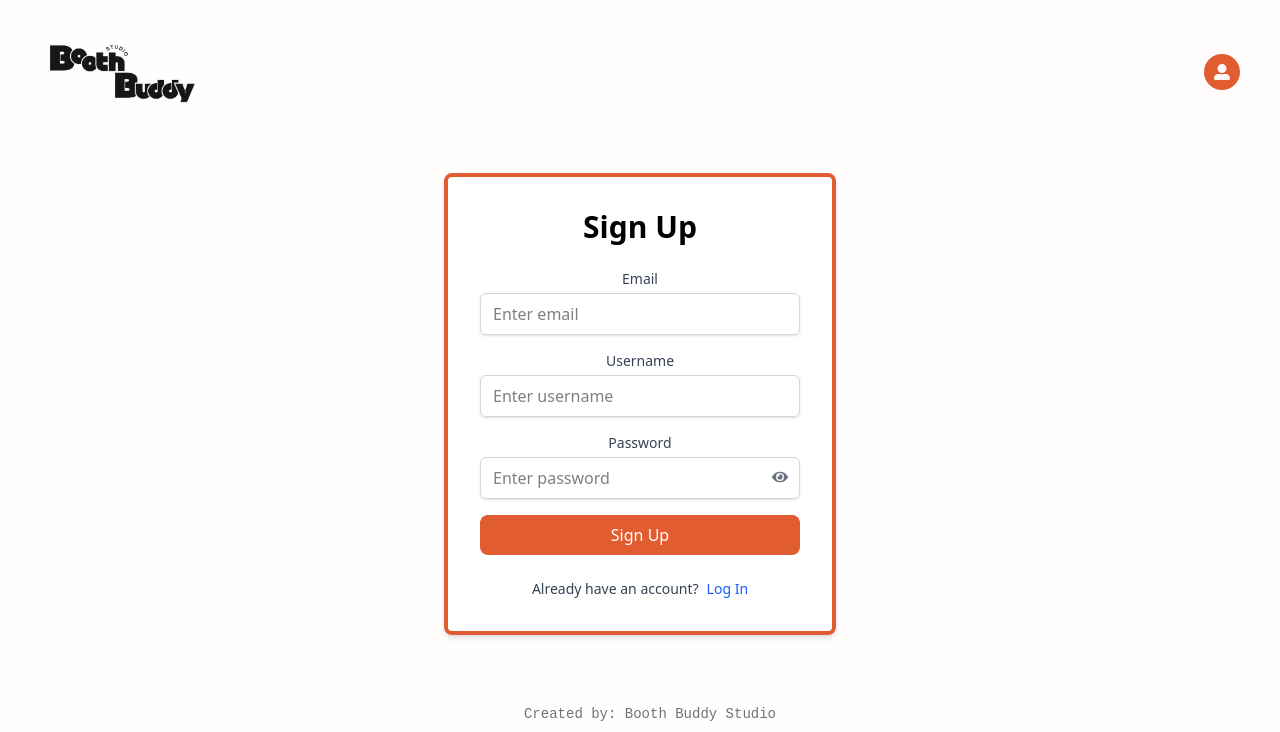
Test: SignupPage Component › should show error when password is invalid
The image size is (1280, 732).
Type "test@example.com" into the field with placeholder "Enter email".
click(640, 314); type("test@example.com")  # box [480, 293, 800, 335]
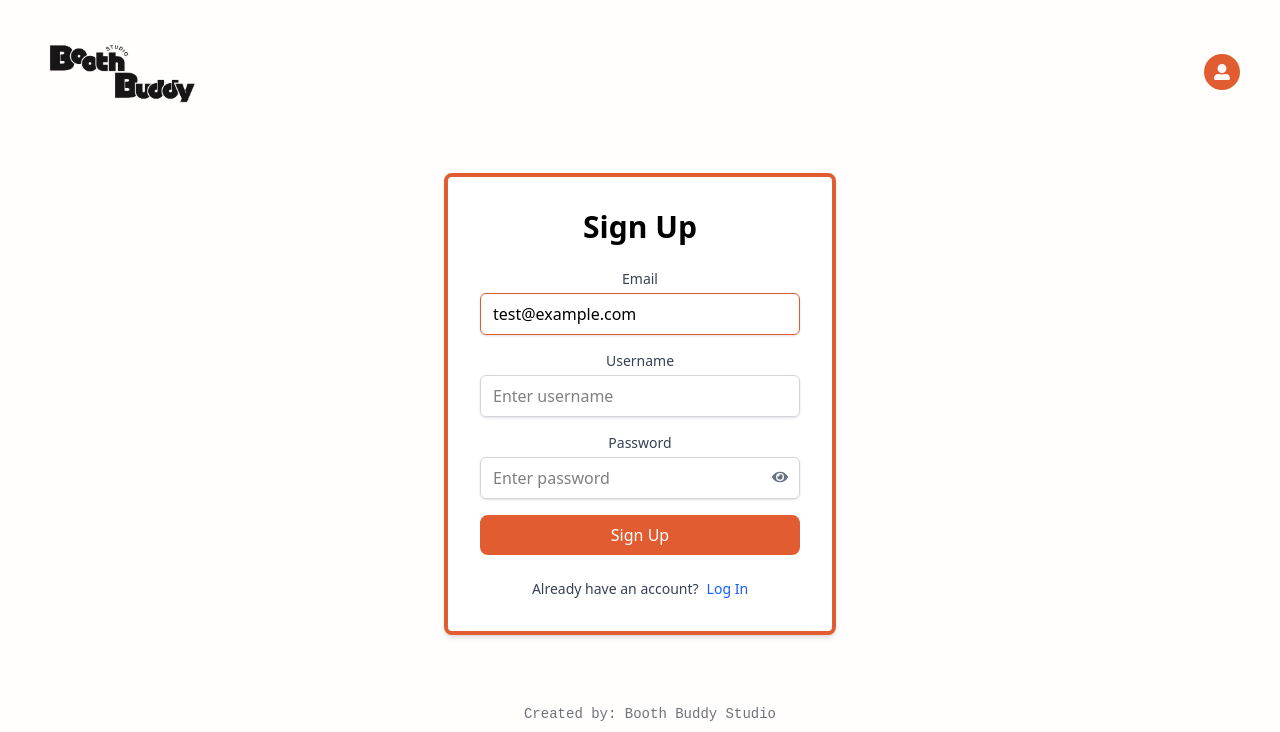
Type "testuser" into the field with placeholder "Enter username".
click(640, 396); type("testuser")  # box [480, 375, 800, 417]
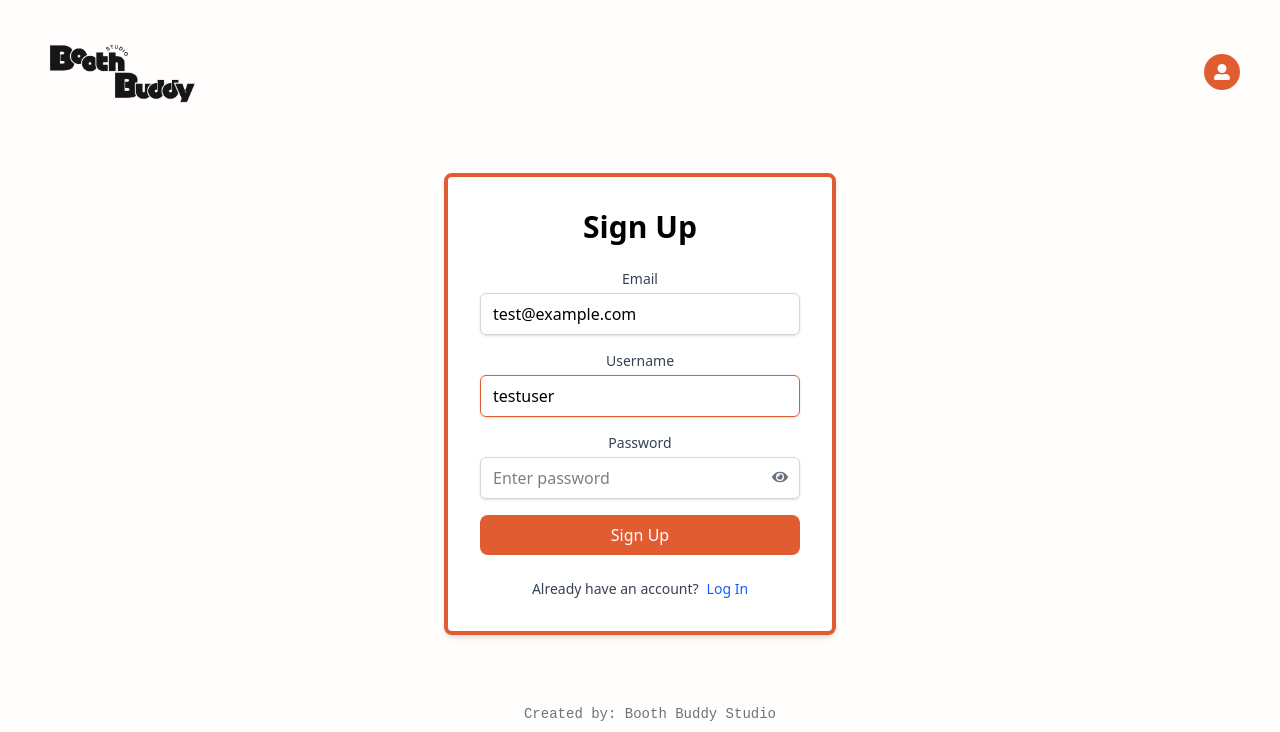
Type "weak" into the password field with placeholder "Enter password".
click(640, 478); type("weak")  # box [480, 457, 800, 499]
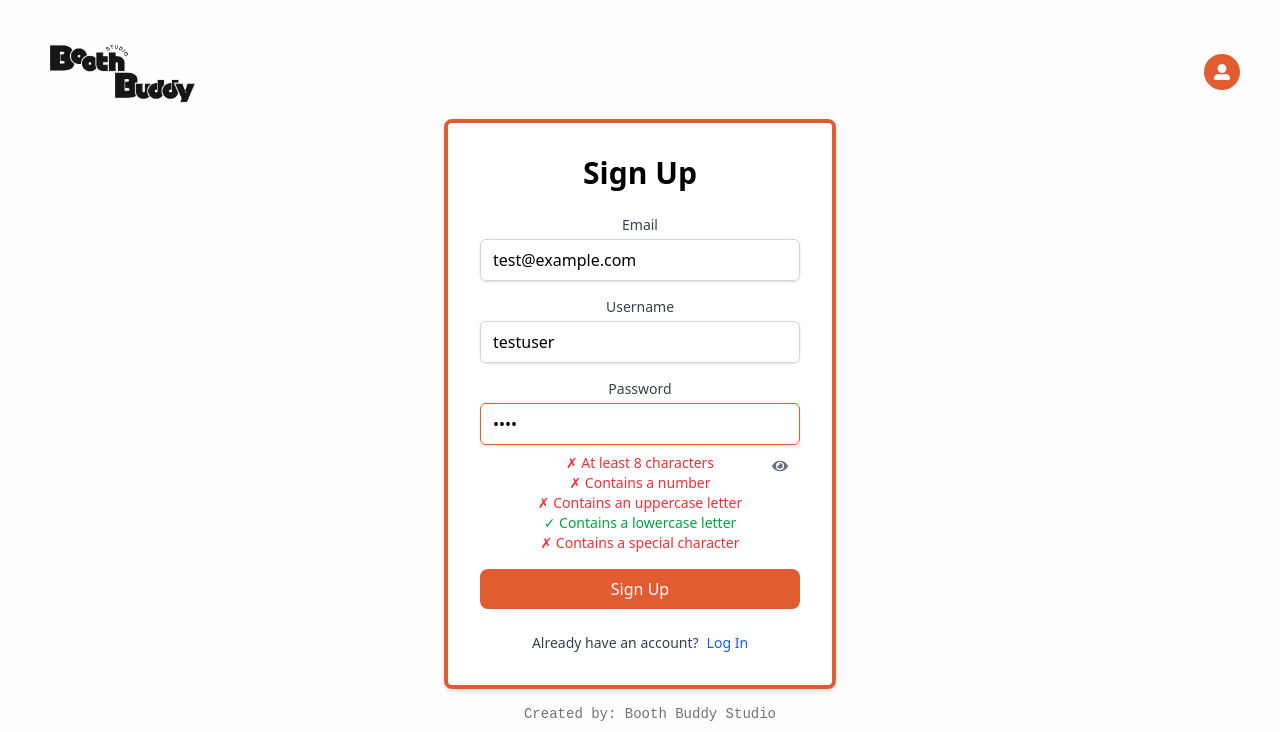
Click the button "Sign Up".
click(640, 589)  # box [480, 569, 800, 609]
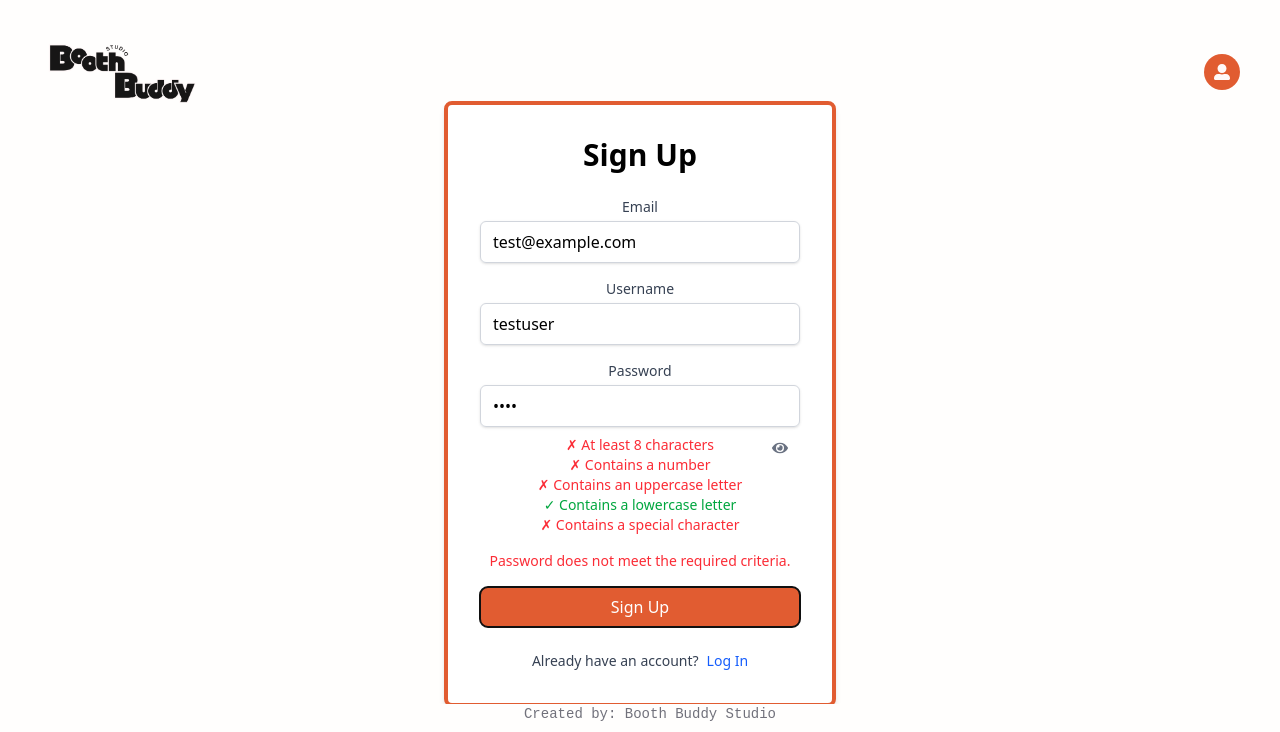
Now the text "Password does not meet the required criteria." is shown, box [480, 551, 800, 571]
